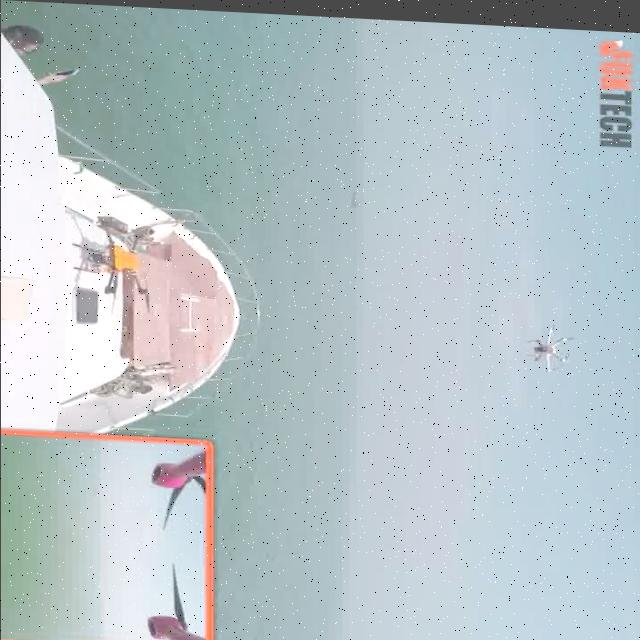drone: (524, 317, 576, 367)
